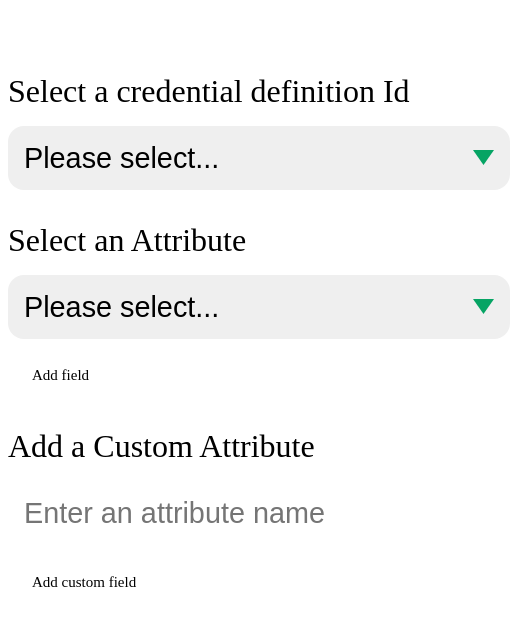
Test: Request Proofs page › should display error on adding empty attributes
The image size is (527, 635).
(page scrolled)
What coordinates should you click on to do the following:
click the button with aria-label "Add attribute"
I would click on:
 (61, 375)
Its box is x1=16 y1=355 x2=105 y2=396.
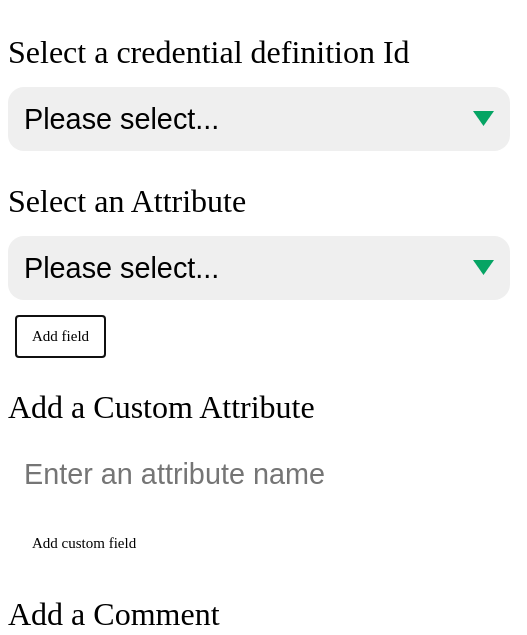
What coordinates should you click on to do the following:
click the button with aria-label "Add custom attribute"
I would click on:
 (84, 543)
Its box is x1=16 y1=523 x2=152 y2=564.
(page scrolled)
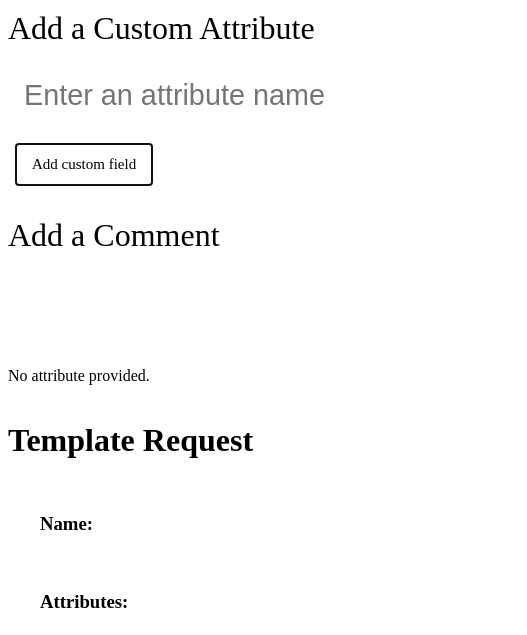
Expected: the text "No attribute provided." is shown, x1=8 y1=367 x2=150 y2=384
